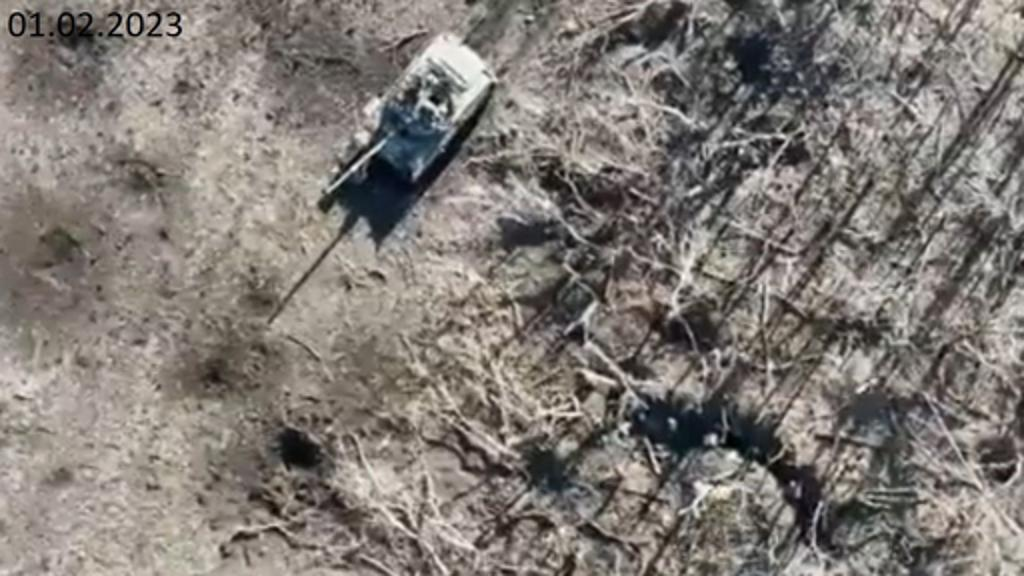TANK: (314, 24, 504, 222)
